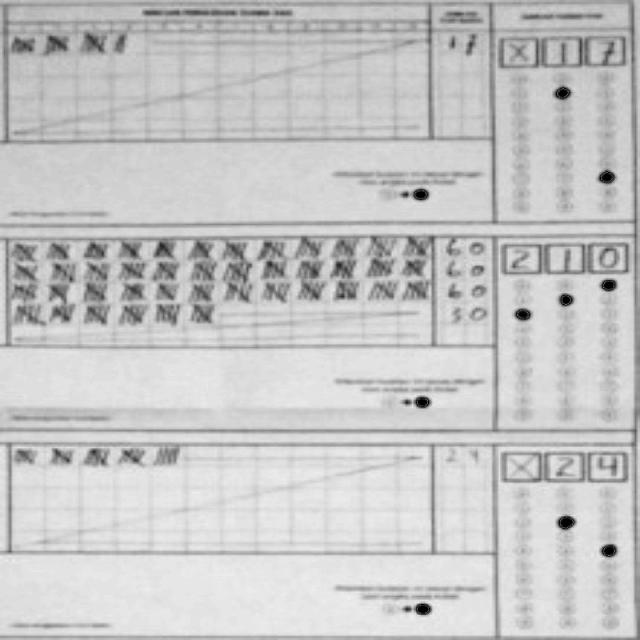Suara: (493, 29, 629, 71), (494, 237, 630, 279), (496, 446, 632, 488)
